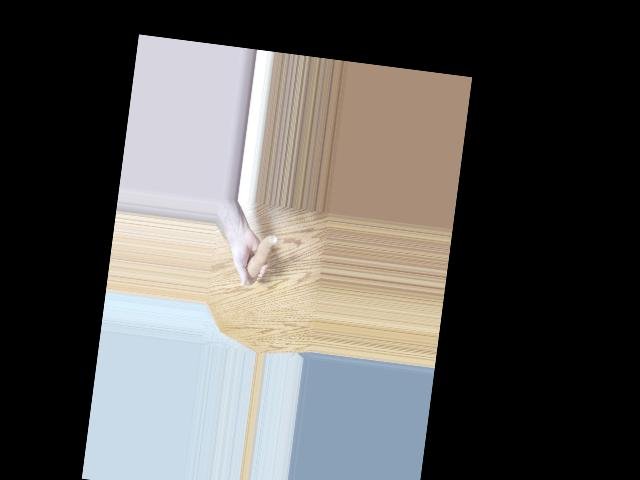sweet_potato: (242, 229, 277, 287)
